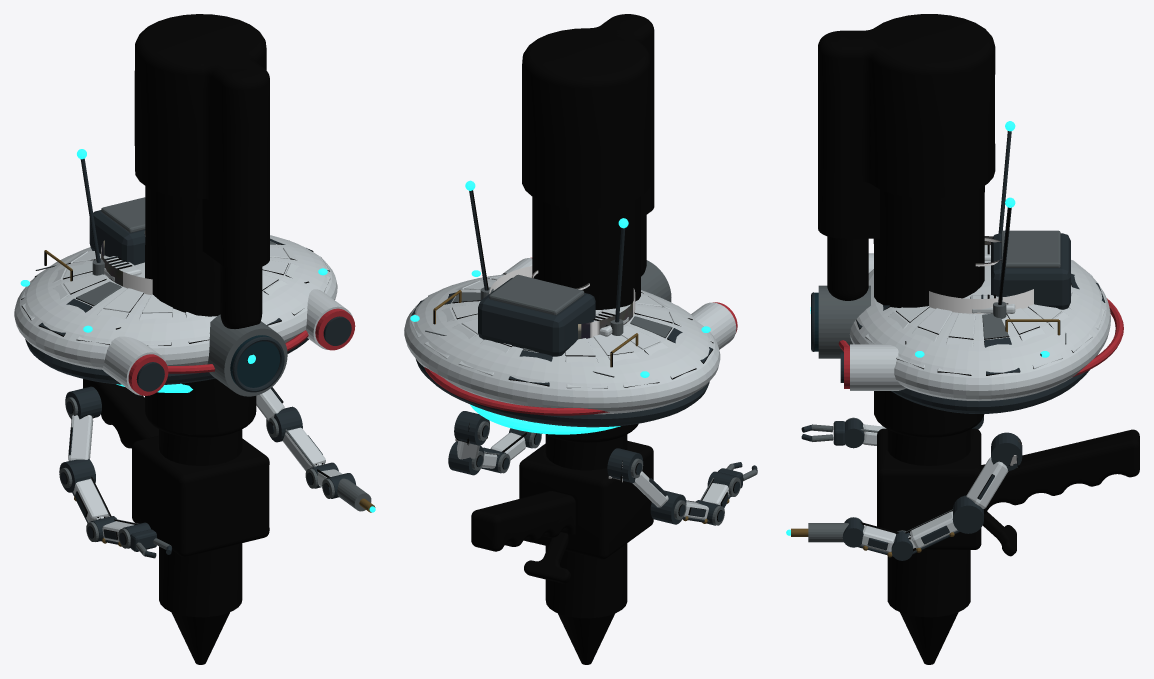
Rendered from spx-repair-drone.glb.
3 views of the same model, side by side, from view 1: azimuth 30°, elevation 25°; view 2: azimuth 150°, elevation 25°; view 3: azimuth 270°, elevation 25° (orthographic). The views are drawn at different scales.
Visible parts, largest first — view 1: SPX repair drone; view 2: SPX repair drone; view 3: SPX repair drone.
Part boxes in pixels (x1,y1,x2,y2): SPX repair drone: [14, 14, 375, 664]; SPX repair drone: [404, 14, 757, 664]; SPX repair drone: [786, 14, 1139, 664].
Bounding box in the file's own units: 0.98 × 1.98 × 1.02.
Materials: 1 (1 with a texture image).
